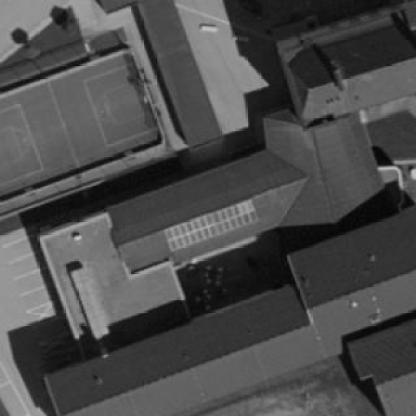solar-pv-panel: (164, 200, 258, 252)
